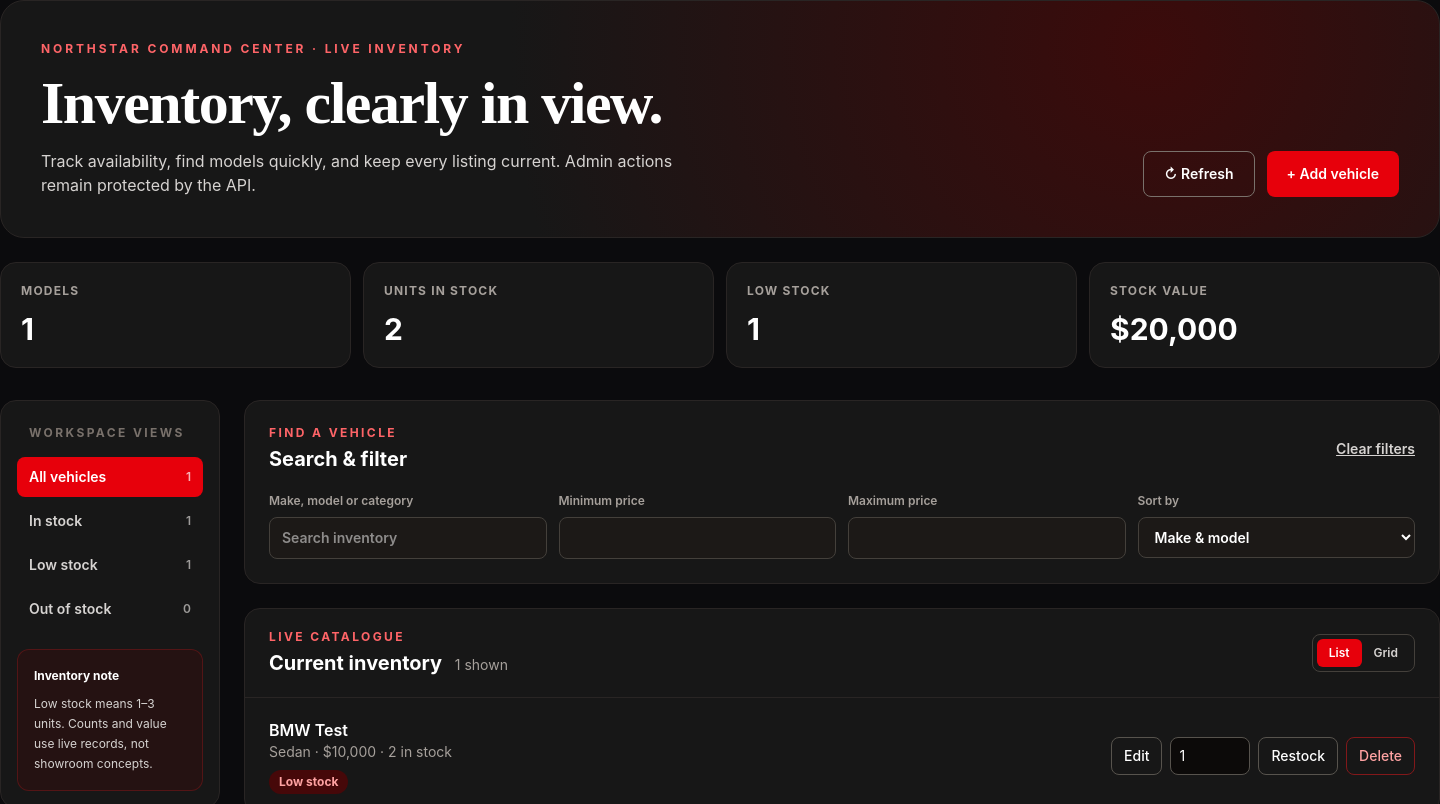
Scenario: admin inventory workspace › restocks by the quantity selected by the admin
The width and height of the screenshot is (1440, 804).
Expected: the heading "BMW Test" is shown, left=269, top=720, right=348, bottom=740
Replace the text in the number field named "Restock quantity for BMW Test" with "3" at [1210, 756], box left=1170, top=737, right=1250, bottom=775
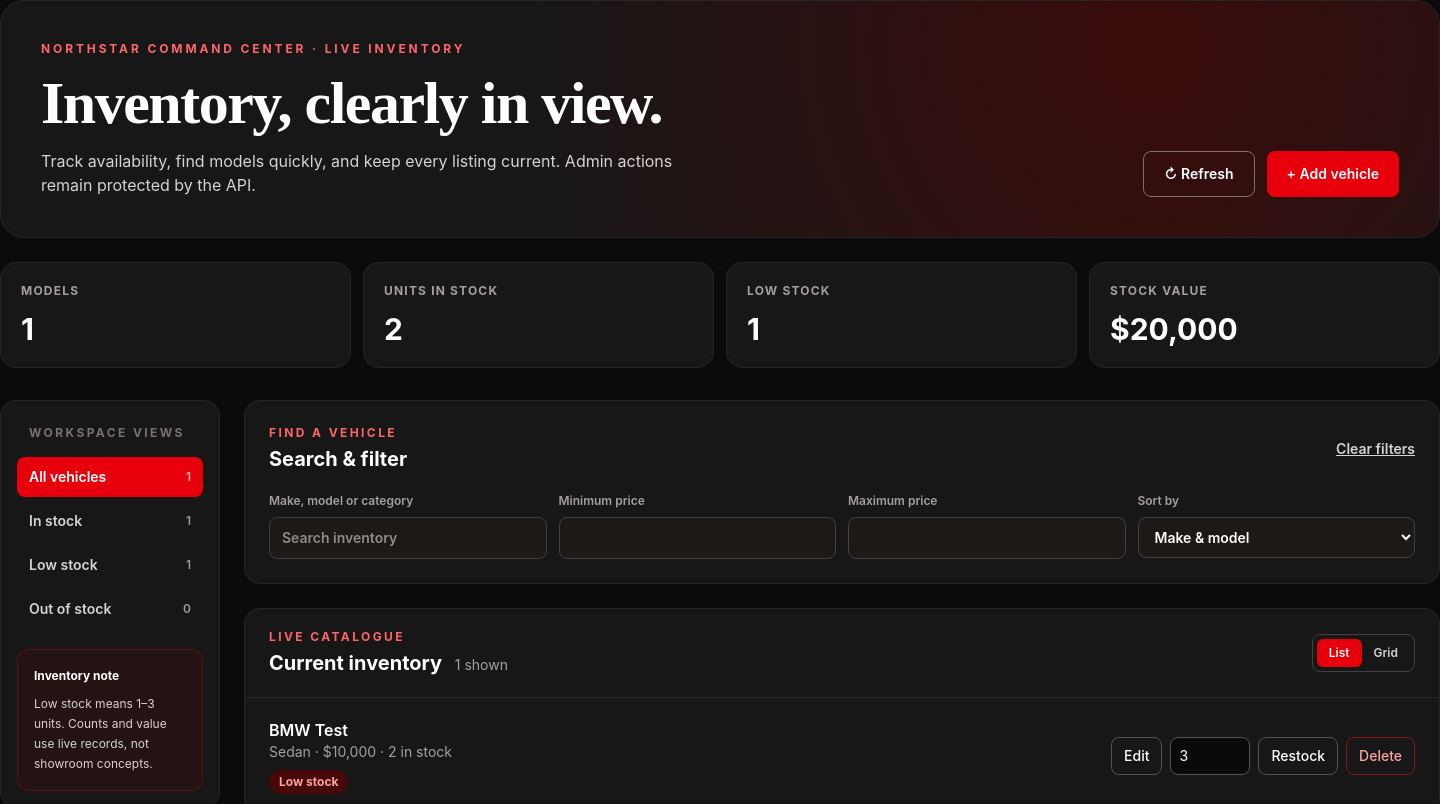
Click the button "Restock" at [1298, 756], box left=1258, top=737, right=1338, bottom=775
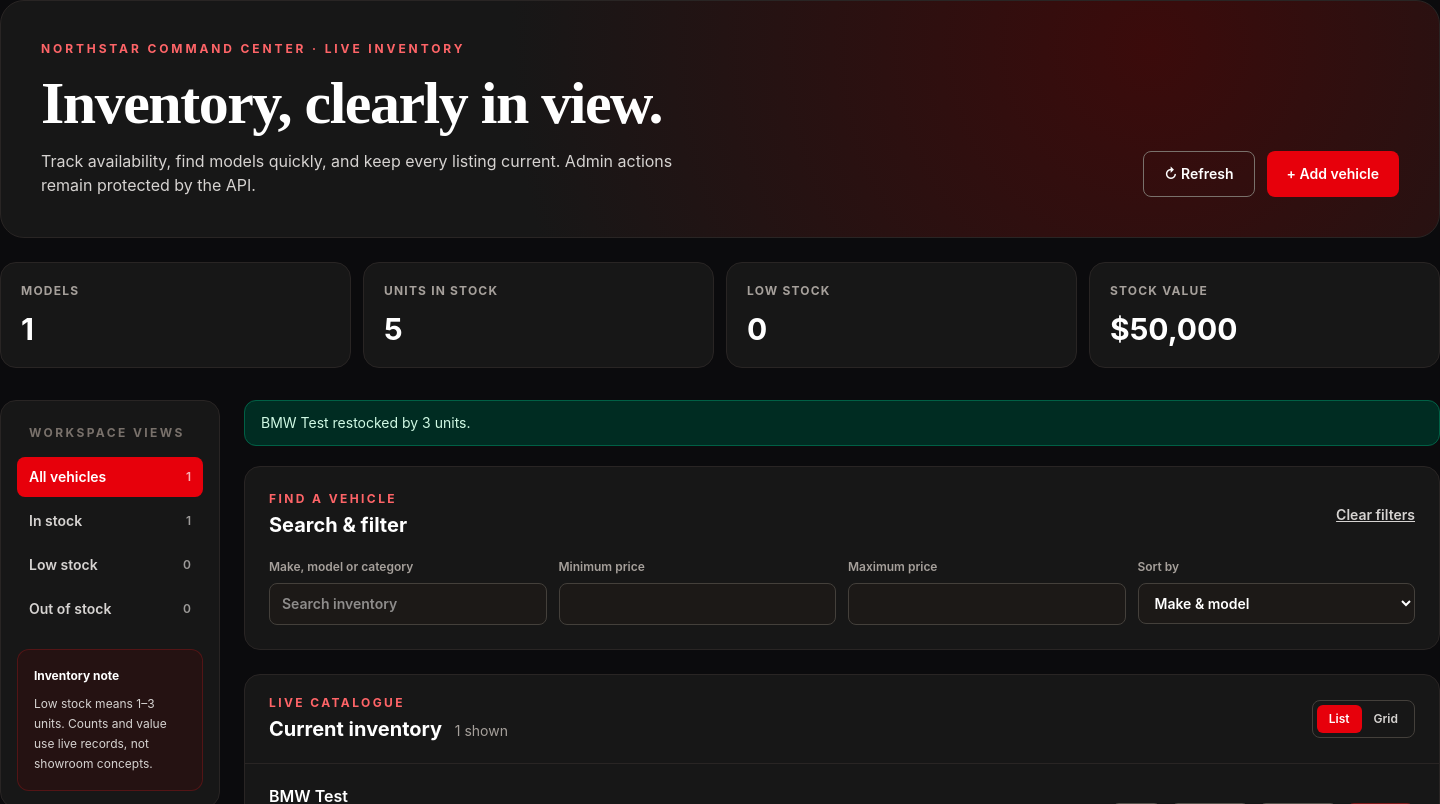
Expected: the text "BMW Test restocked by 3 units." is shown, left=244, top=400, right=1439, bottom=446
